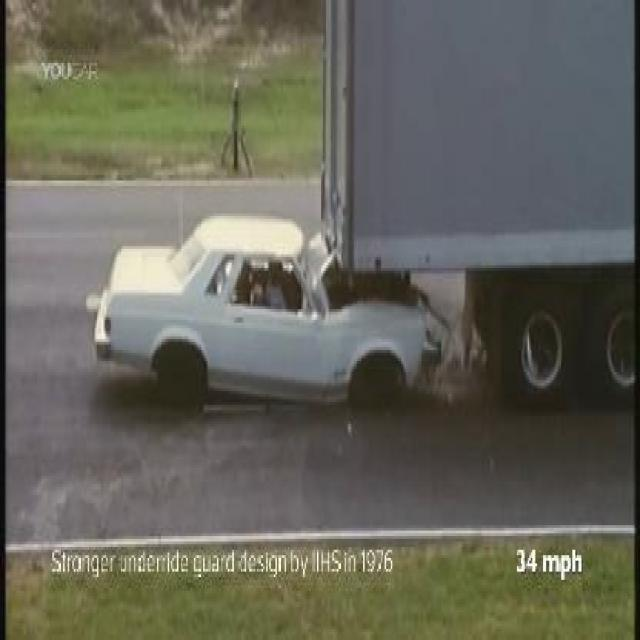accident: (84, 0, 638, 427)
